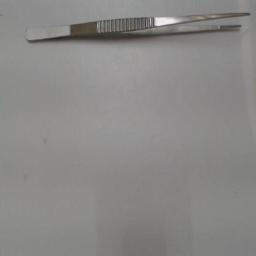DeBakey Dissector: (12, 8, 254, 52)
